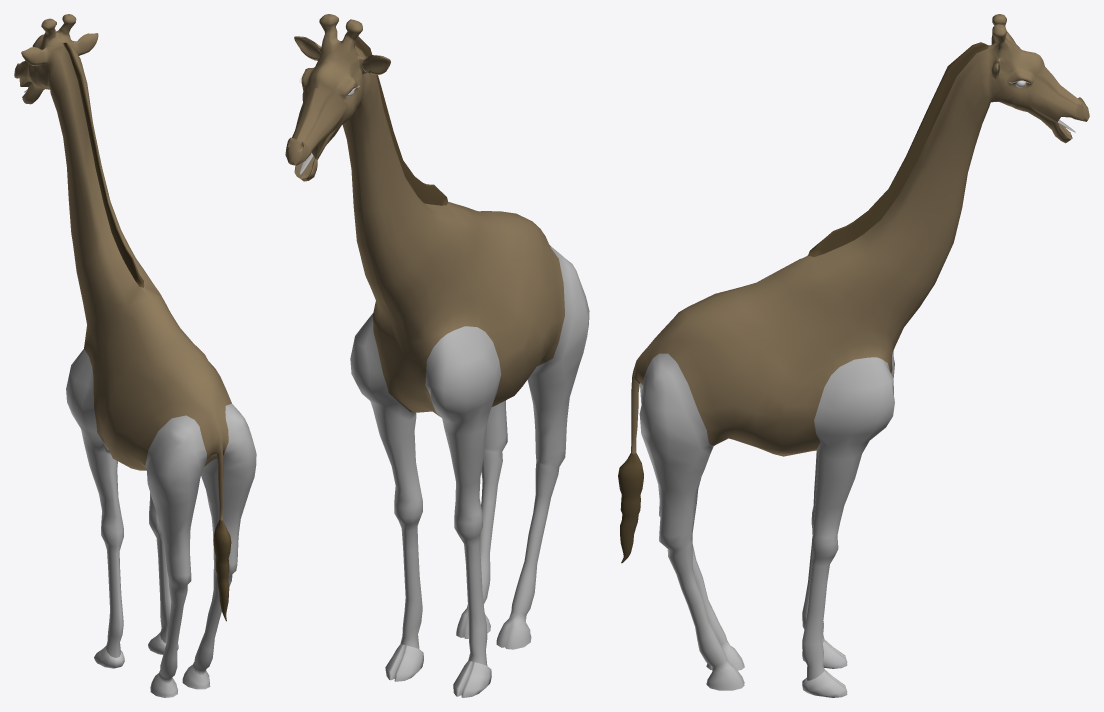
File: TestGiraffe.fbx
3 views of the same model, side by side, from view 1: azimuth 30°, elevation 25°; view 2: azimuth 150°, elevation 25°; view 3: azimuth 270°, elevation 25° (orthographic). The views are drawn at different scales.
Parts seen in each view (by area): view 1: Giraffe2; view 2: Giraffe2; view 3: Giraffe2.
Boxes of the visible parts, x1,y1,x2,y2 form: Giraffe2: [14, 14, 256, 697]; Giraffe2: [285, 14, 589, 697]; Giraffe2: [618, 14, 1089, 697].
Size of the model in its own units: 4.36 by 23.28 by 15.11.
